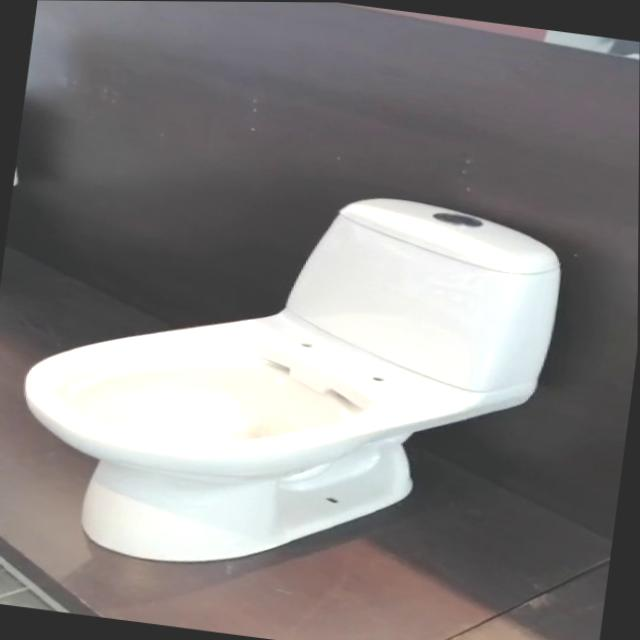toilet: (3, 152, 570, 607)
